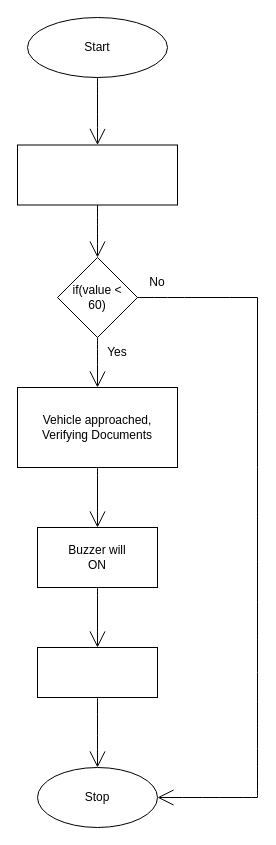
Image size: 276x845. Some labels were removed from this diagram. The centre of each missing label's shape, as x and y in pixels:
Checking for Vehicle: the point at 97,174
Gate will open: the point at 97,672
